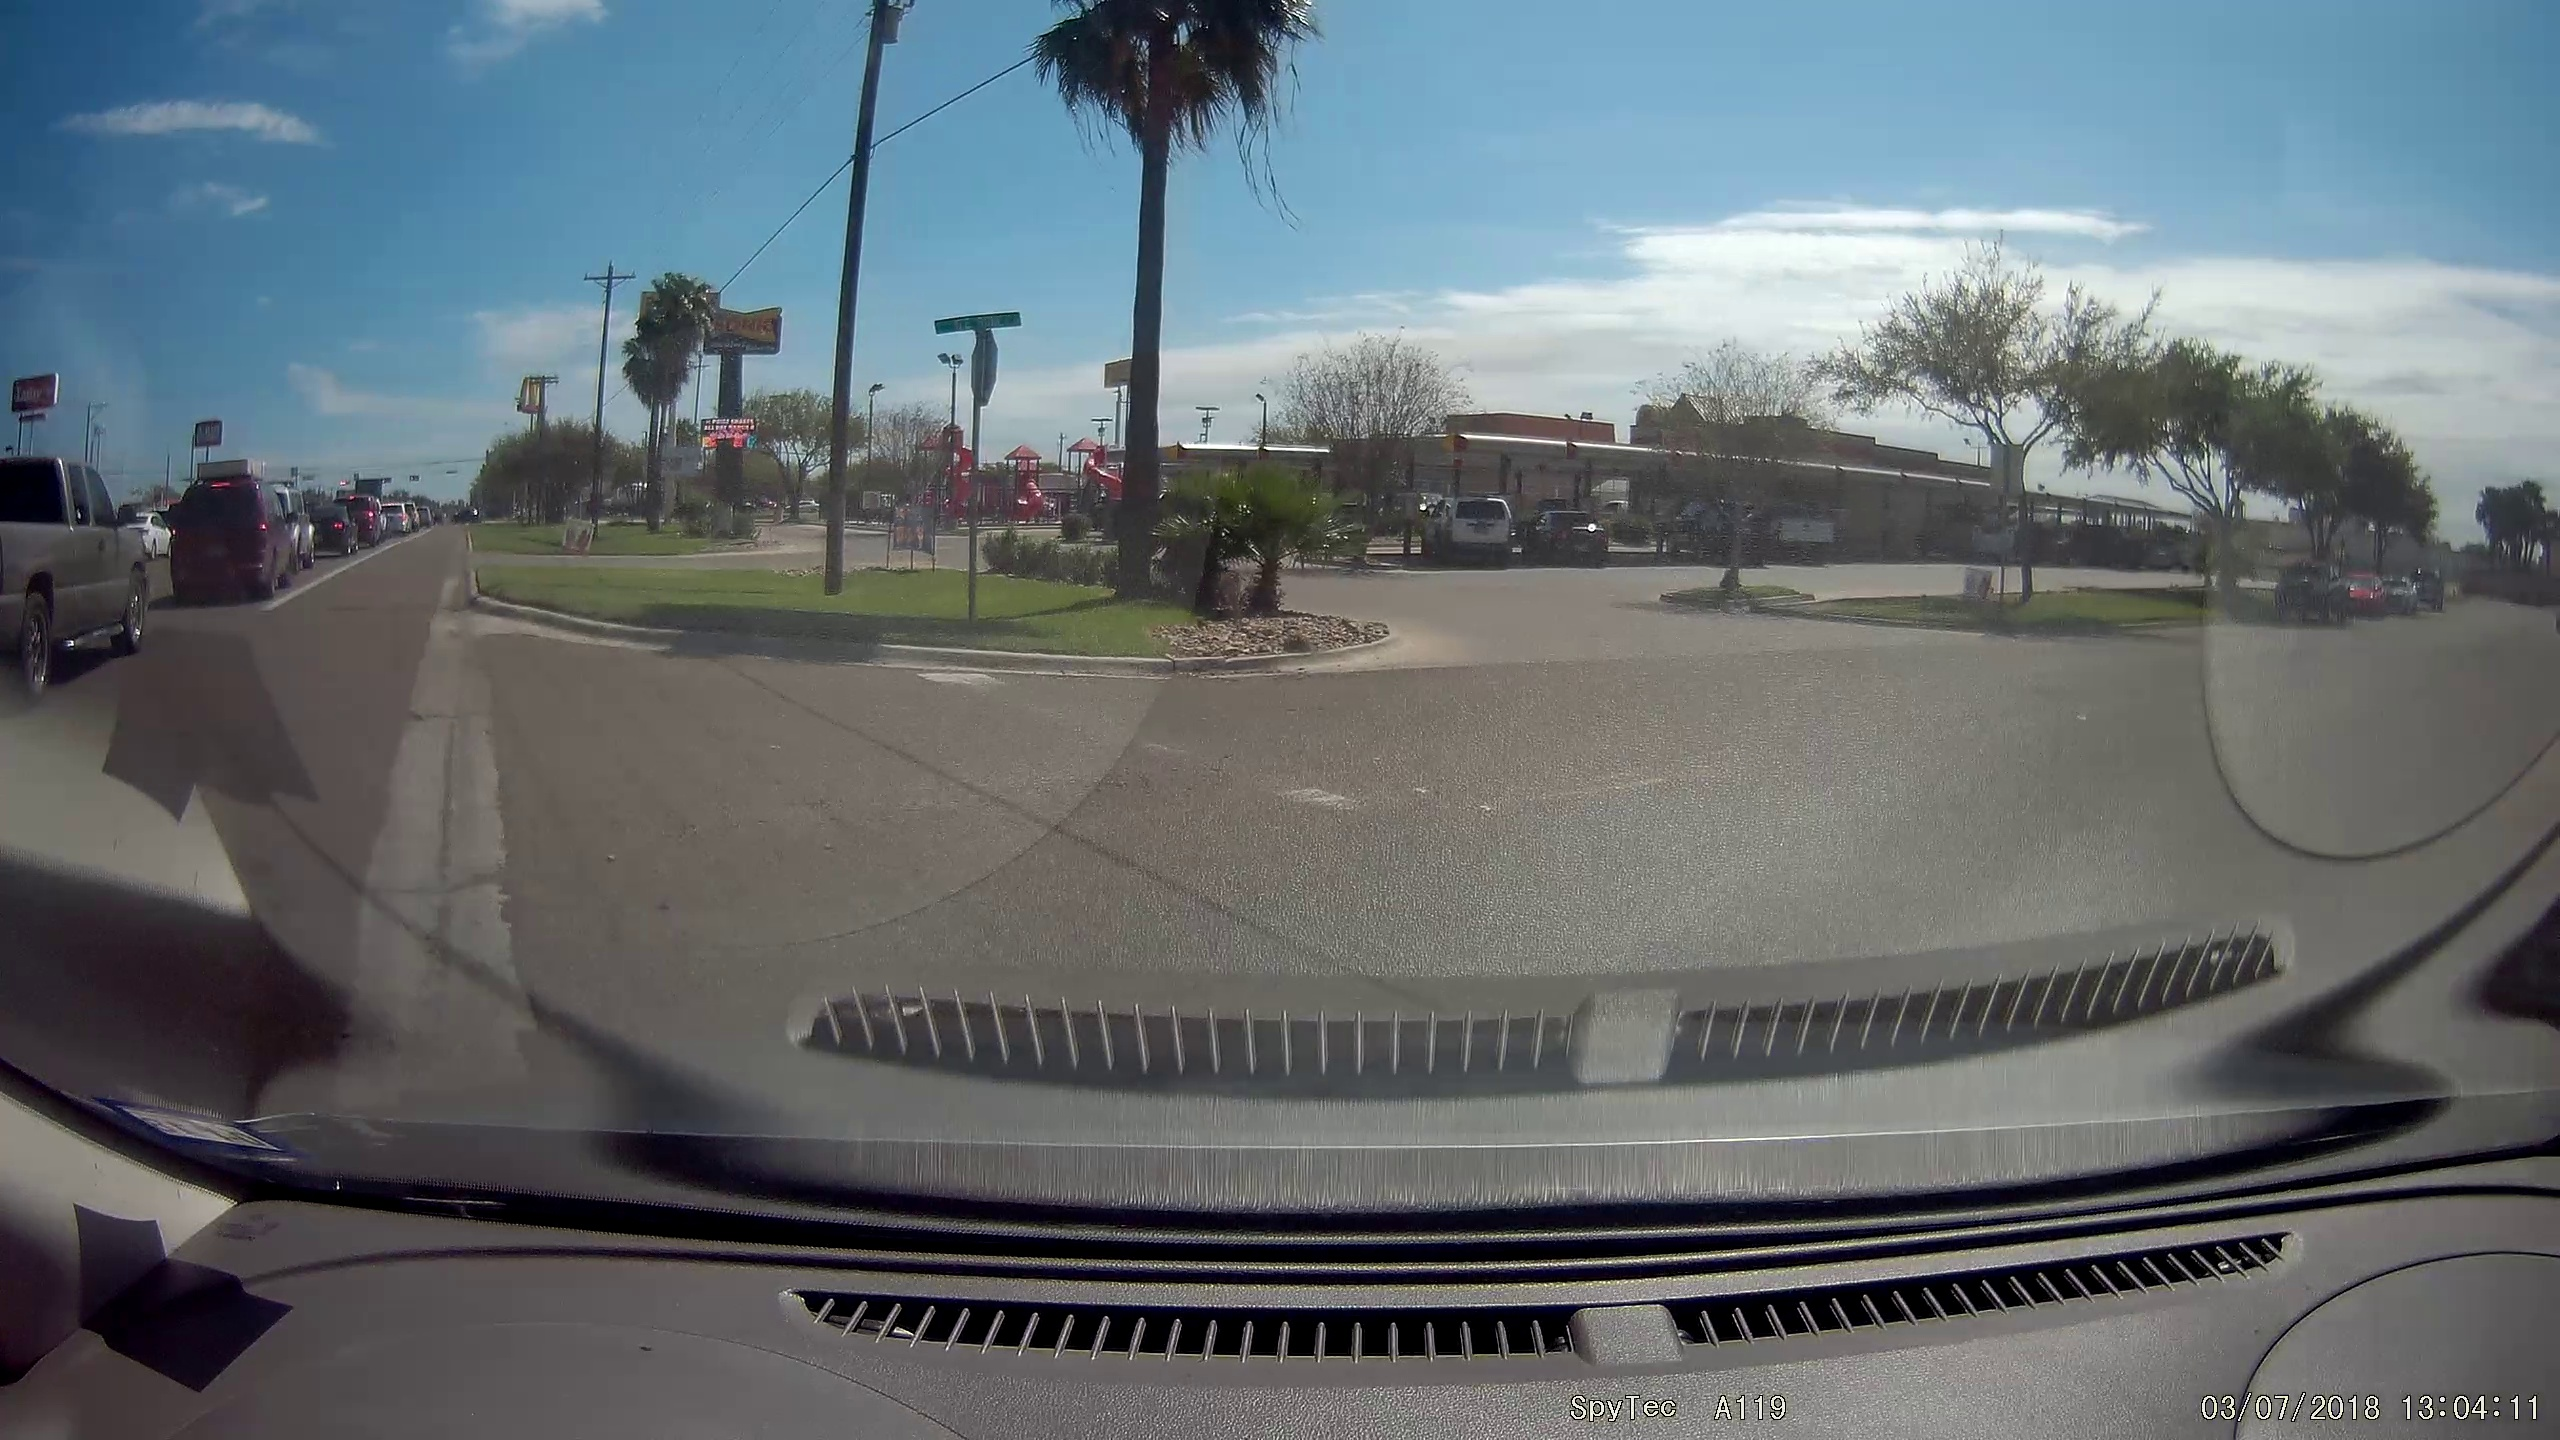blurredLine: (1116, 712, 1405, 840)
